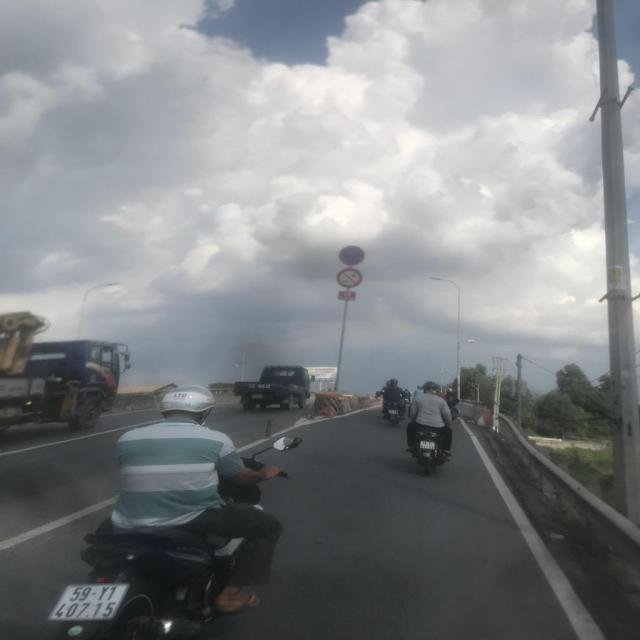cam_dung_xe_va_do_xe: (339, 246, 364, 266)
cam_xe_2_banh_va_xe_3_banh_co_dong_co: (336, 268, 363, 289)
